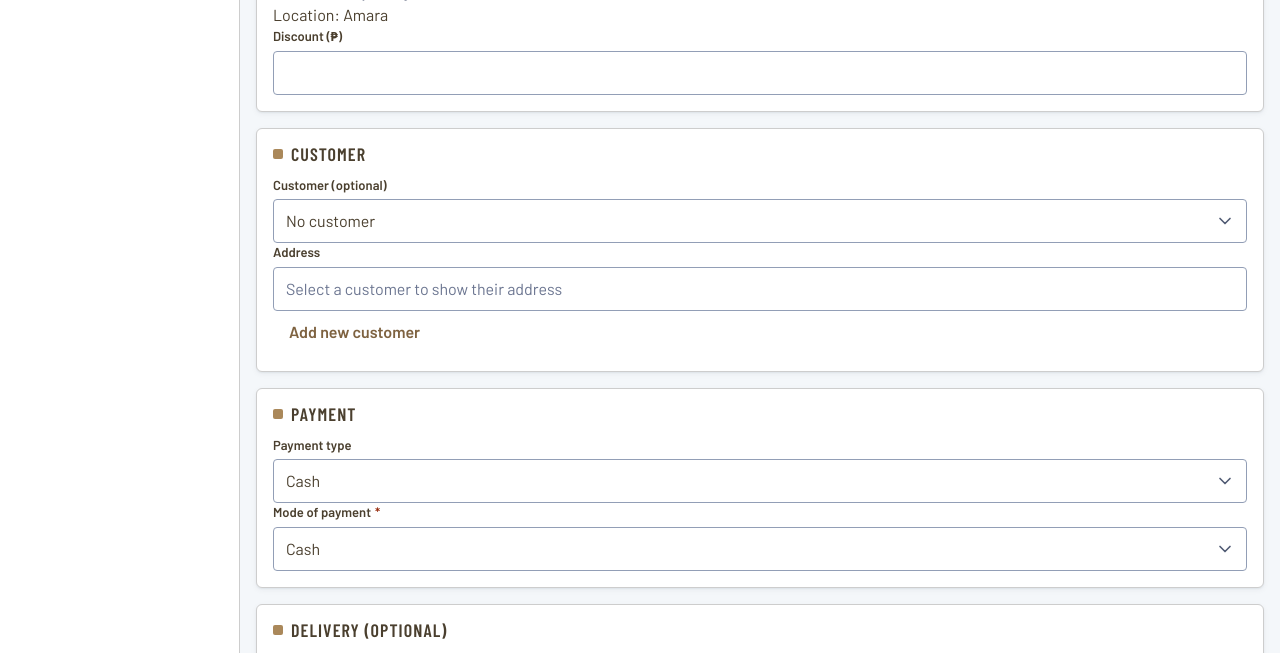
Test: SaleCartPage › shows the selected customer address from the add-customer flow
This screenshot has width=1280, height=653.
(page scrolled)
Click the button "Add new customer" at (355, 333), box top-left (273, 311), bottom-right (436, 355)
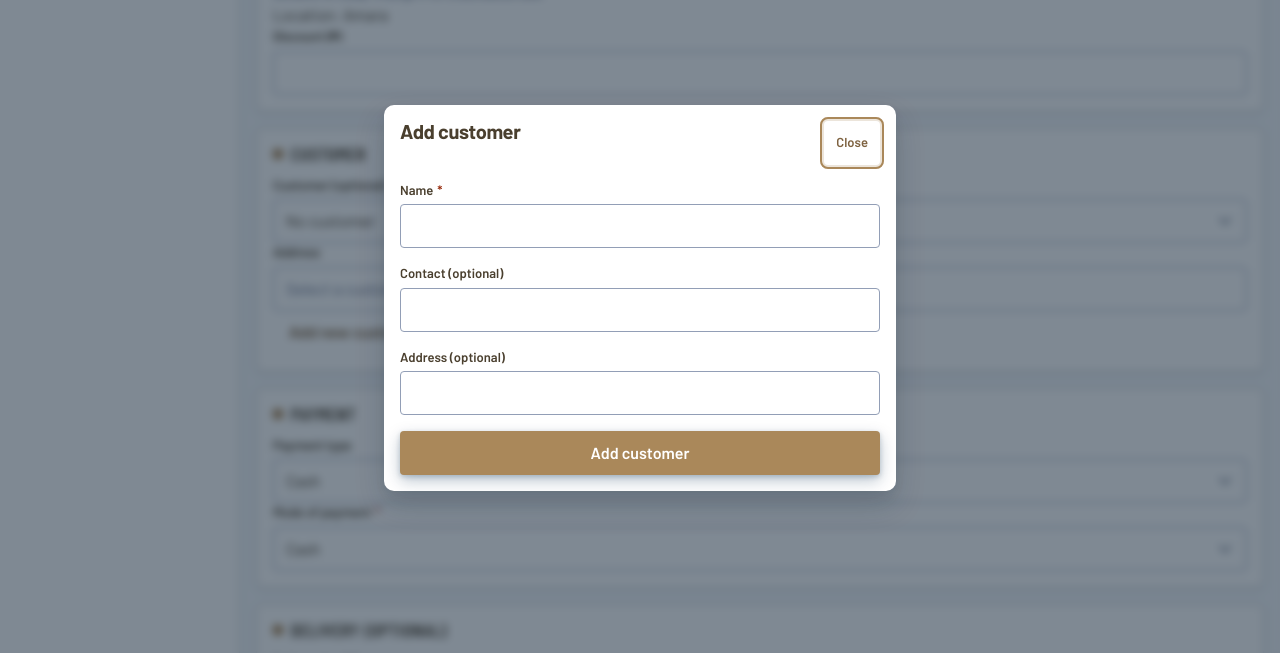
Type "Rosa Abad" into the field labelled "Name*" at (640, 226), box top-left (400, 204), bottom-right (880, 248)
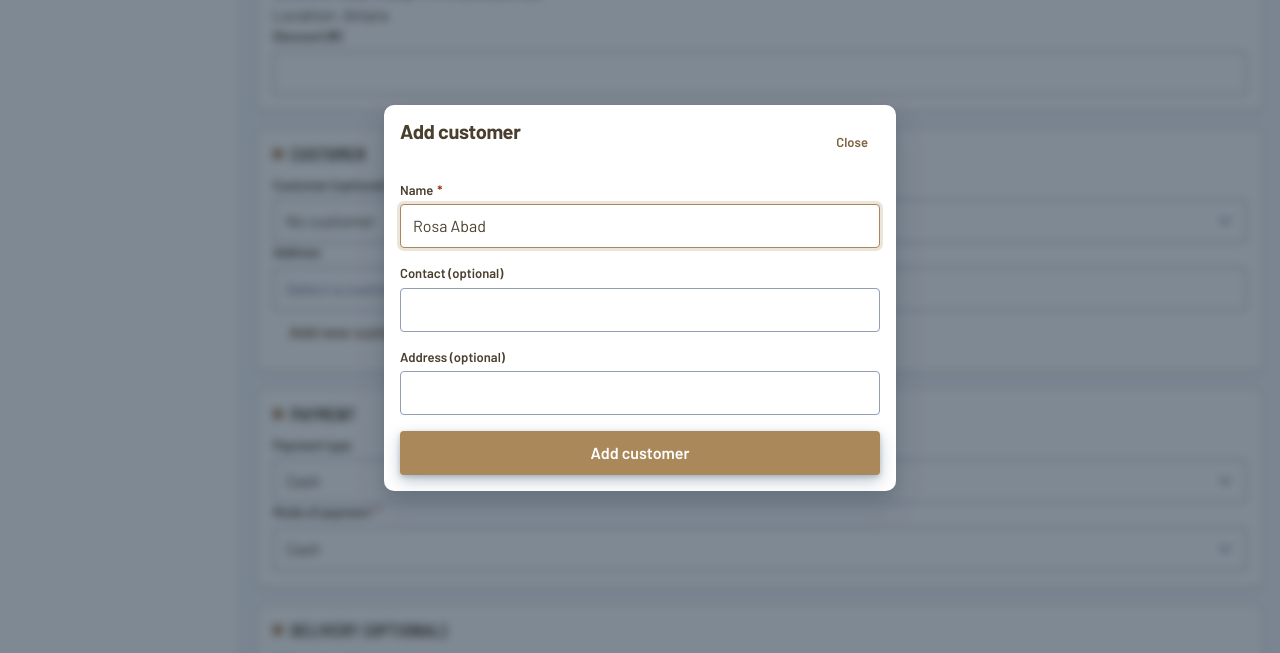
Type "45 Rizal Ave." into the field labelled "Address (optional)" at (640, 393), box top-left (400, 371), bottom-right (880, 415)
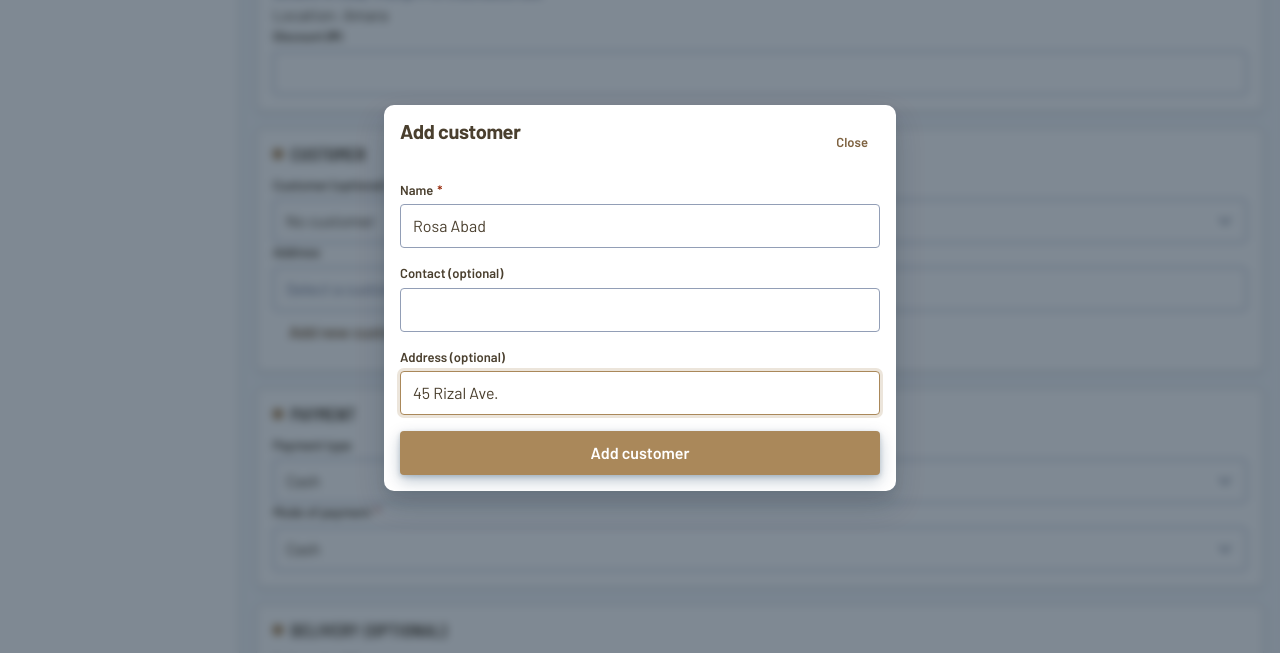
Click the button "Add customer" at (640, 453), box top-left (400, 431), bottom-right (880, 475)
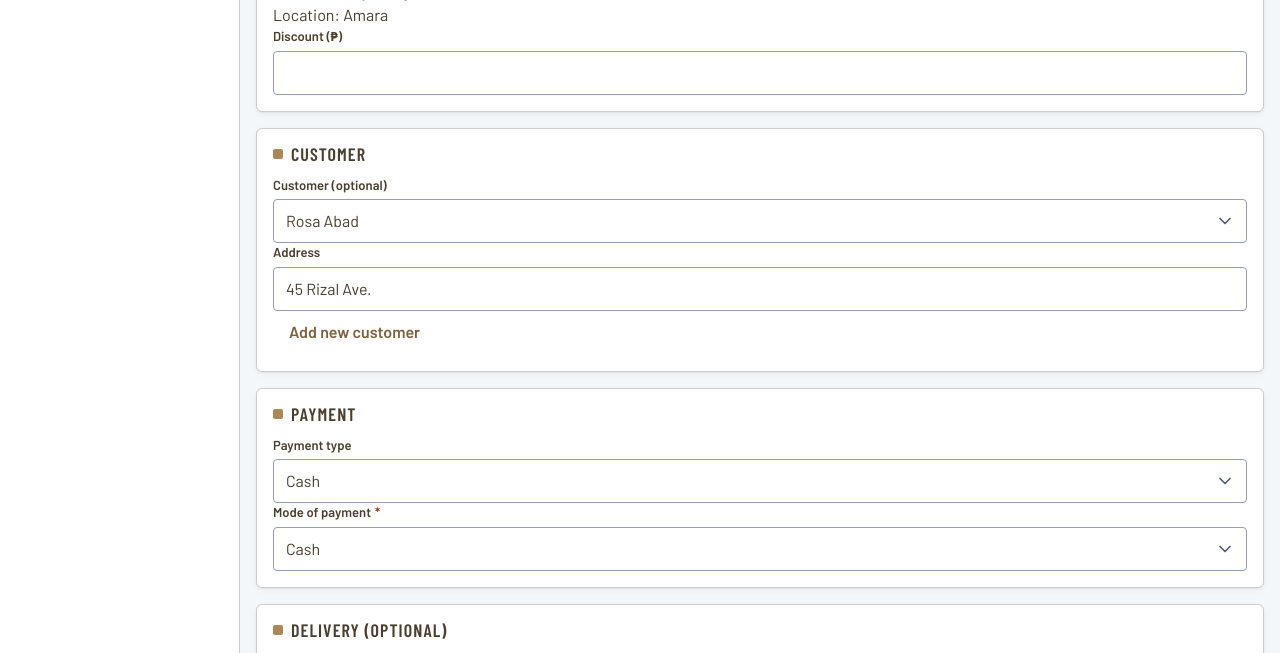
Check: the field labelled "Address" holds "45 Rizal Ave.", box top-left (273, 267), bottom-right (1247, 311)
